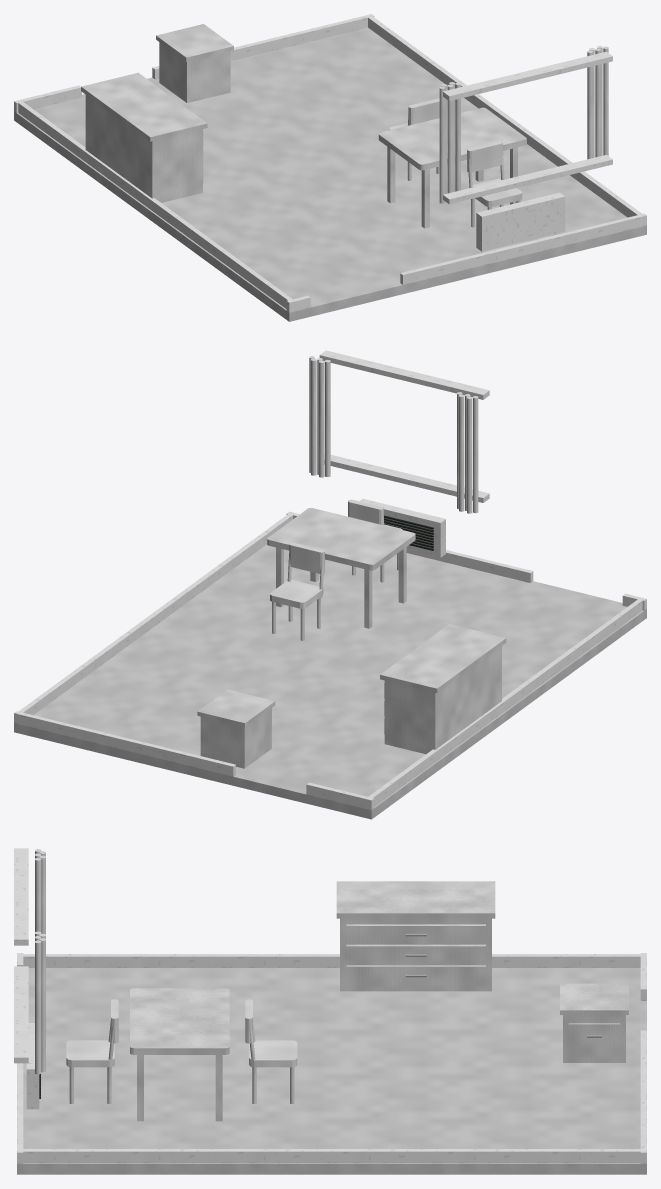
The model's file is SM_Town_Motel_Room6Interior.glb.
3 renders of one model, top to bottom at view 1: azimuth 30°, elevation 25°; view 2: azimuth 150°, elevation 25°; view 3: azimuth 270°, elevation 25°, orthographic. The views are drawn at different scales.
Visible parts, largest first — view 1: SM_Town_Motel_Room6Interior; view 2: SM_Town_Motel_Room6Interior; view 3: SM_Town_Motel_Room6Interior.
Part boxes in pixels (x1,y1,x2,y2): SM_Town_Motel_Room6Interior: (14, 14, 646, 321); SM_Town_Motel_Room6Interior: (14, 350, 646, 819); SM_Town_Motel_Room6Interior: (14, 848, 646, 1174).
Bounding box in the file's own units: 4.5 × 2.26 × 6.03.
Materials: 9 (7 with a texture image).
